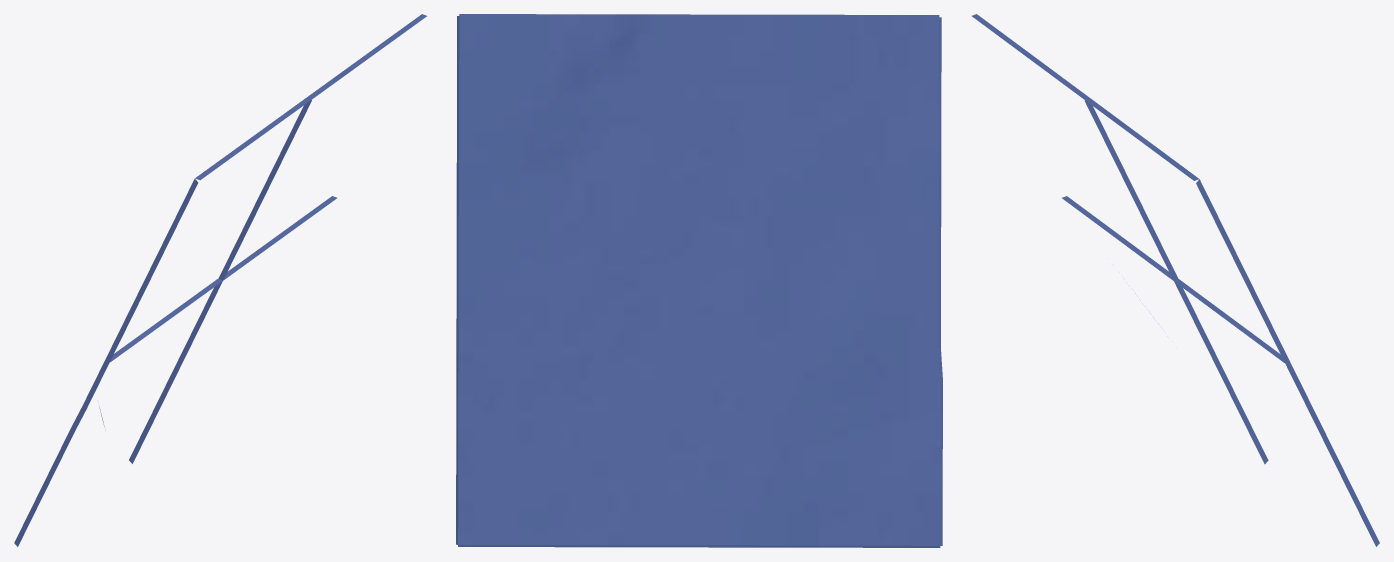
3 views of the same model, side by side, from view 1: azimuth 30°, elevation 25°; view 2: azimuth 150°, elevation 25°; view 3: azimuth 270°, elevation 25° (orthographic). The views are drawn at different scales.
Bounding box in the file's own units: 39546 × 35921 × 32361.
Materials: 1 (1 with a texture image).
